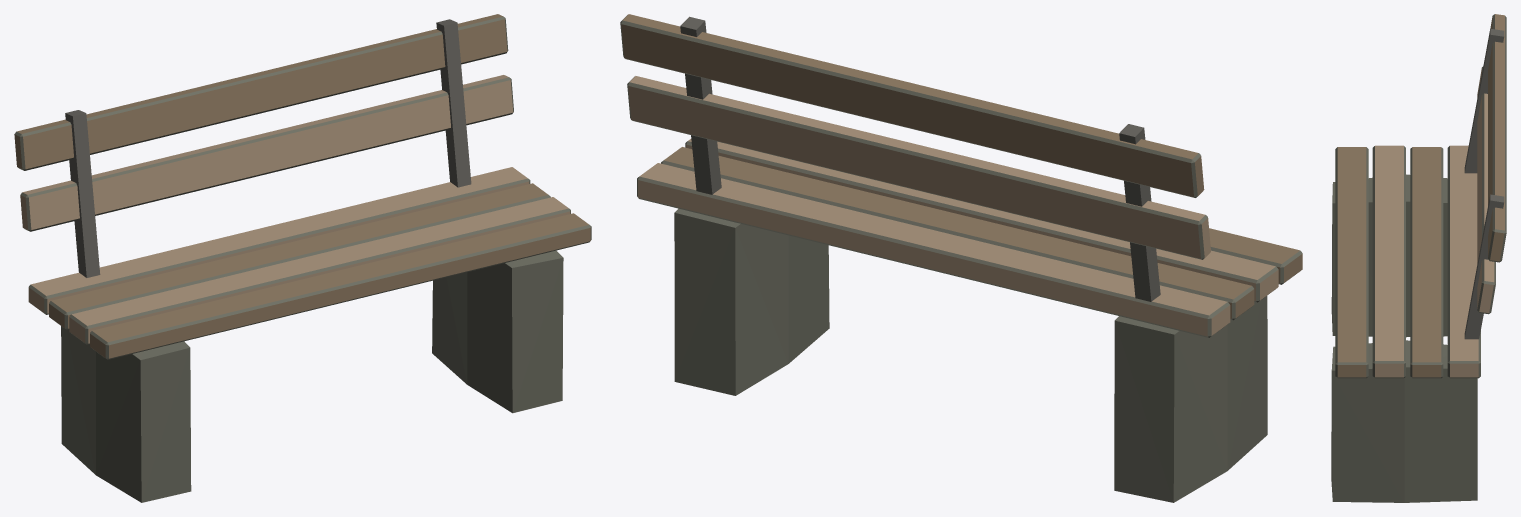
File: street_bench.glb
3 views of the same model, side by side, from view 1: azimuth 30°, elevation 25°; view 2: azimuth 150°, elevation 25°; view 3: azimuth 270°, elevation 25° (orthographic). The views are drawn at different scales.
Visible parts, largest first — view 1: Street_Bench; view 2: Street_Bench; view 3: Street_Bench.
Part boxes in pixels (left/top/right/bottom): Street_Bench: left=14, top=14, right=591, bottom=502; Street_Bench: left=620, top=14, right=1302, bottom=502; Street_Bench: left=1331, top=14, right=1506, bottom=502.
Size of the model in its own units: 1.44 by 0.9061 by 0.4917.
